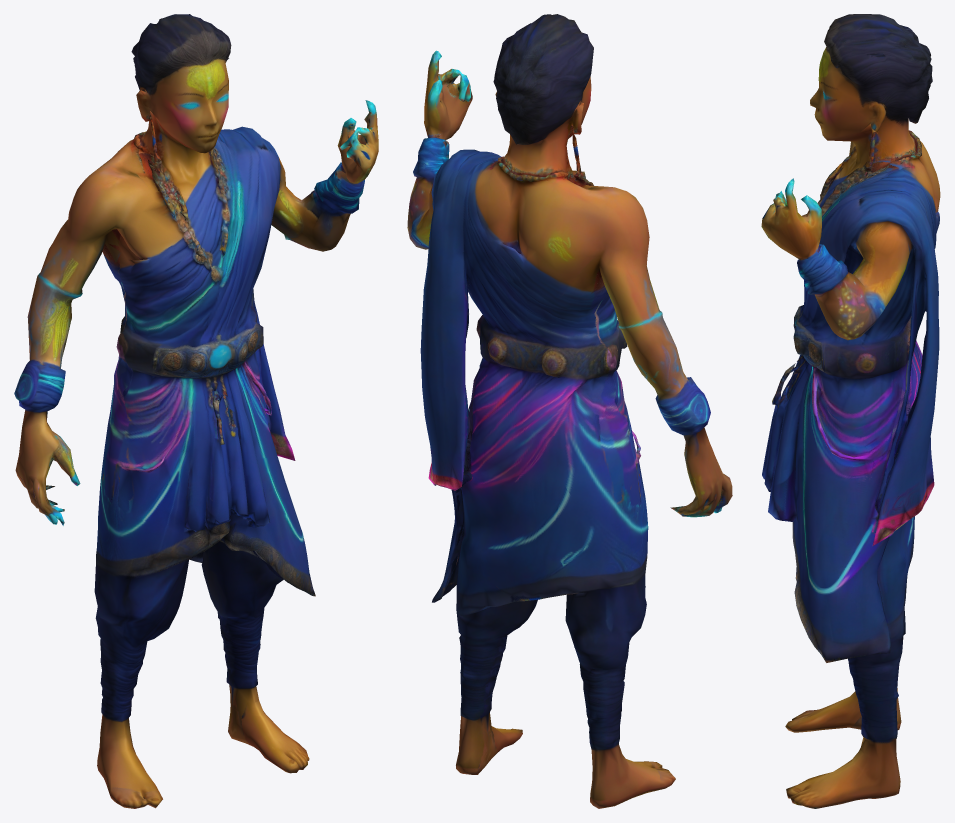
File: modelo54.glb
3 views of the same model, side by side, from view 1: azimuth 30°, elevation 25°; view 2: azimuth 150°, elevation 25°; view 3: azimuth 270°, elevation 25° (orthographic). The views are drawn at different scales.
Size of the model in its own units: 0.8948 by 2 by 0.4328.
Materials: 1 (1 with a texture image).
